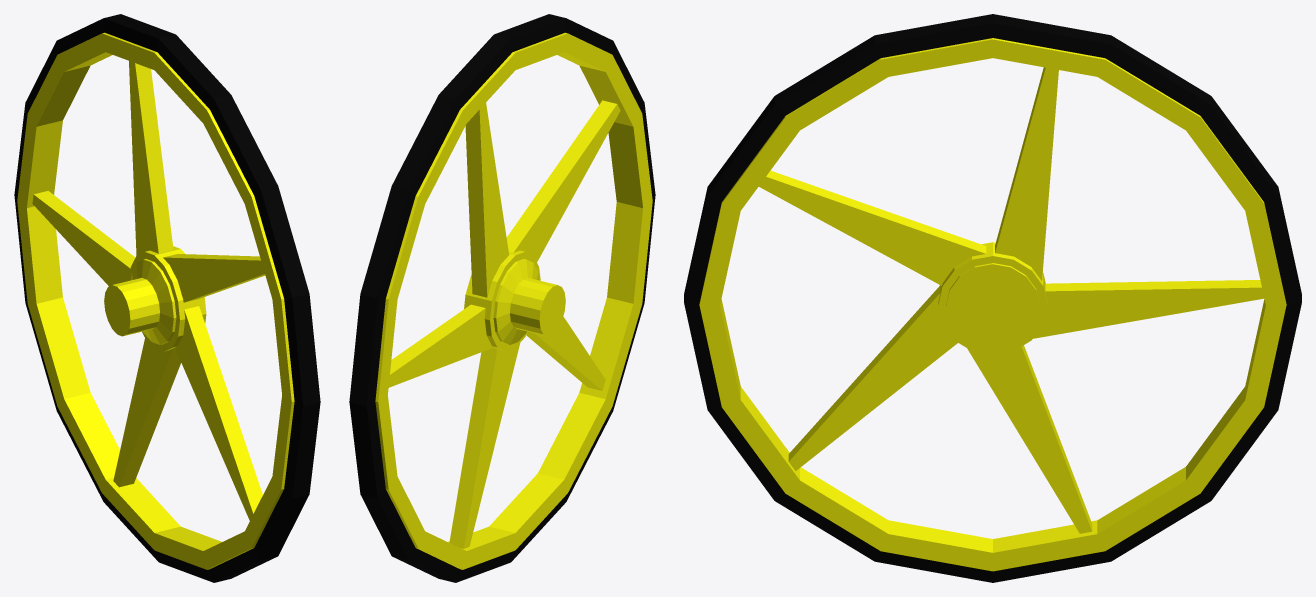
The model's file is pico_arp_wheel.gltf.
3 views of the same model, side by side, from view 1: azimuth 30°, elevation 25°; view 2: azimuth 150°, elevation 25°; view 3: azimuth 270°, elevation 25° (orthographic). The views are drawn at different scales.
Parts seen in each view (by area): view 1: roue; view 2: roue; view 3: roue.
Part boxes in pixels (bbox=[...]): roue: bbox=[14, 14, 320, 582]; roue: bbox=[349, 14, 655, 582]; roue: bbox=[684, 14, 1301, 582].
Size of the model in its own units: 0.8888 by 6.74 by 6.74.
